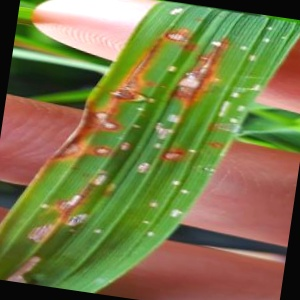Brown_Spot: (111, 56, 154, 110), (177, 54, 218, 106), (157, 137, 200, 184), (16, 214, 67, 248), (48, 132, 92, 169), (41, 187, 93, 218), (195, 131, 245, 163), (81, 106, 130, 138), (5, 249, 48, 283), (61, 206, 100, 240), (87, 165, 117, 189), (93, 139, 116, 166)
